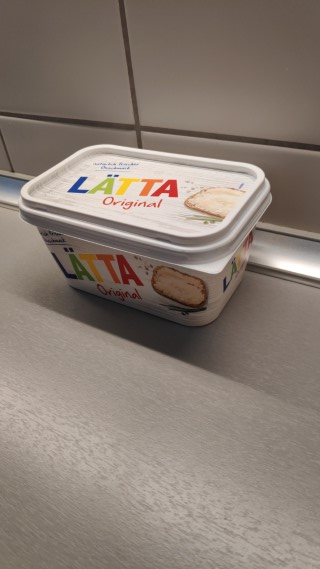laetta: (18, 143, 273, 328)
